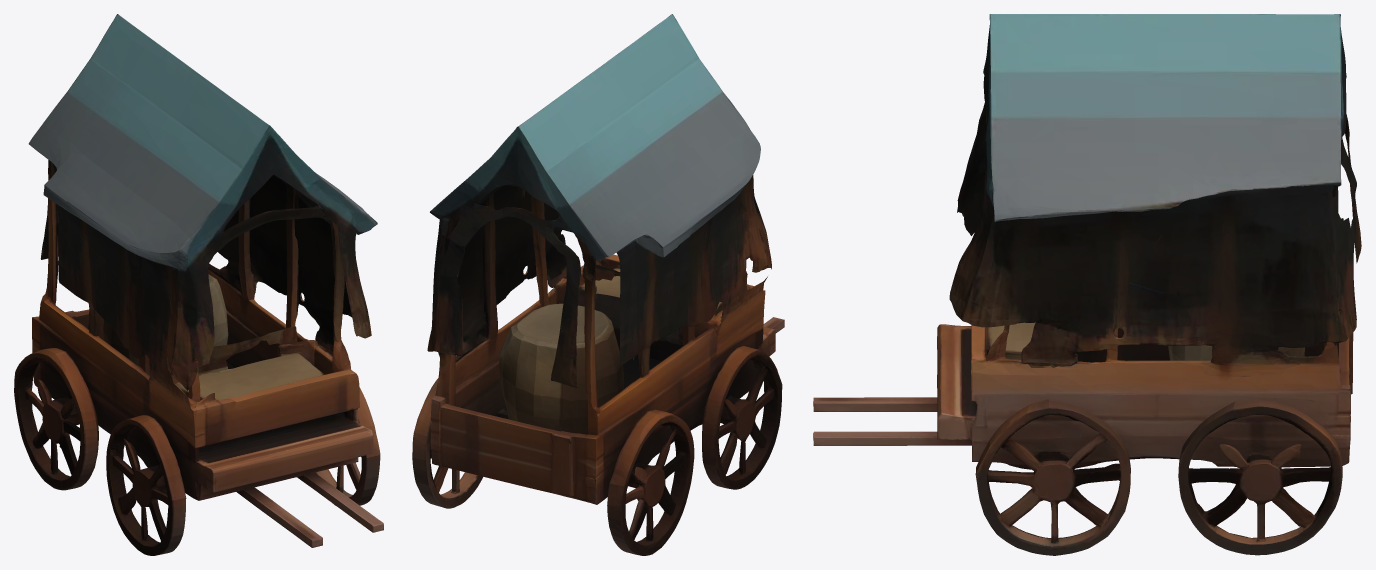
Rendered from 3deditformer_t02.glb.
The picture shows the model from 3 angles, left to right: view 1: azimuth 30°, elevation 25°; view 2: azimuth 150°, elevation 25°; view 3: azimuth 270°, elevation 25°; orthographic projection. The views are drawn at different scales.
Visible parts, largest first — view 1: geometry_0; view 2: geometry_0; view 3: geometry_0.
Part boxes in pixels (<box>): geometry_0: <box>14,14,383,555</box>; geometry_0: <box>412,14,784,555</box>; geometry_0: <box>813,14,1361,555</box>.
Size of the model in its own units: 1.05 by 1.94 by 1.99.
1 material, 1 textured.
